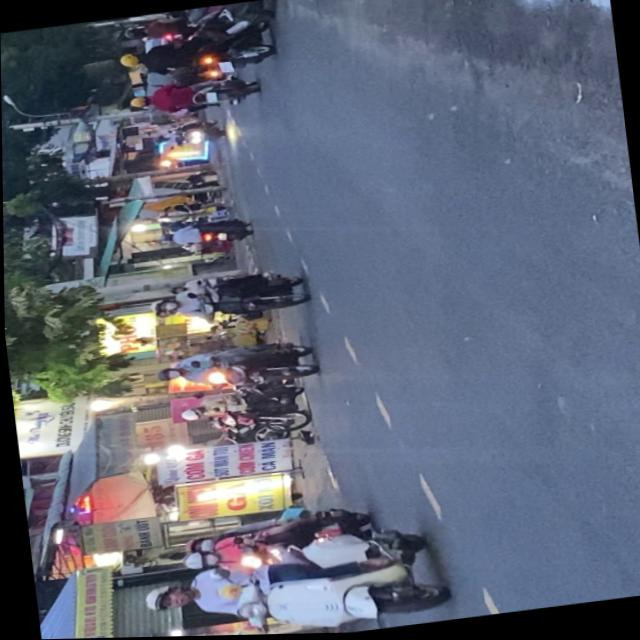helmet: (140, 583, 193, 615), (178, 549, 214, 571), (181, 537, 212, 555), (147, 297, 176, 315), (152, 367, 182, 384)
licenseplate: (131, 518, 452, 638), (173, 501, 376, 577), (148, 336, 319, 401), (144, 265, 312, 331)
